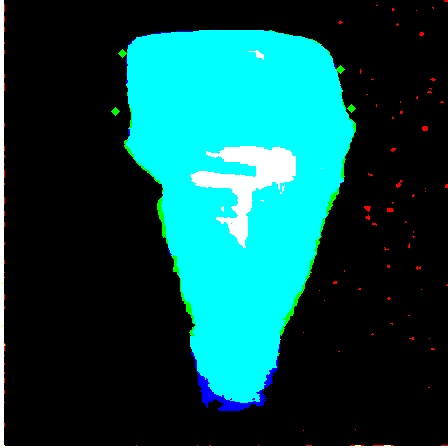coin_1: (115, 111, 135, 131)
coin_2: (122, 53, 142, 73)
coin_3: (351, 108, 371, 128)
coin_4: (340, 69, 360, 89)
